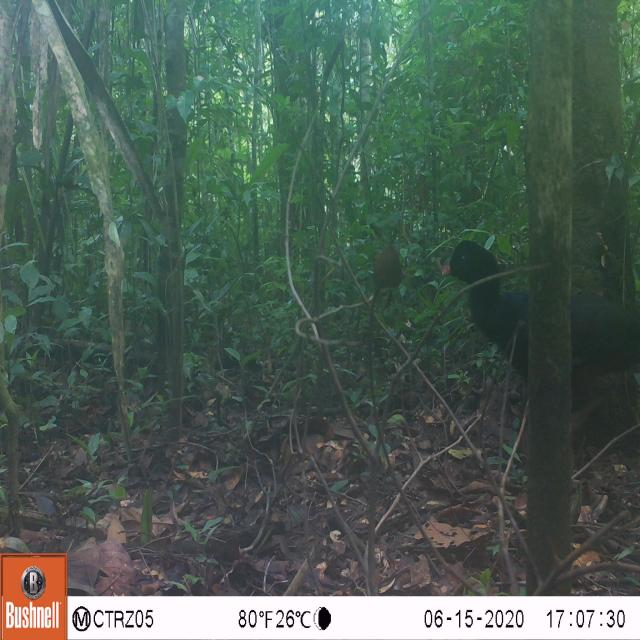Salvins Curassow: (431, 225, 640, 437)
